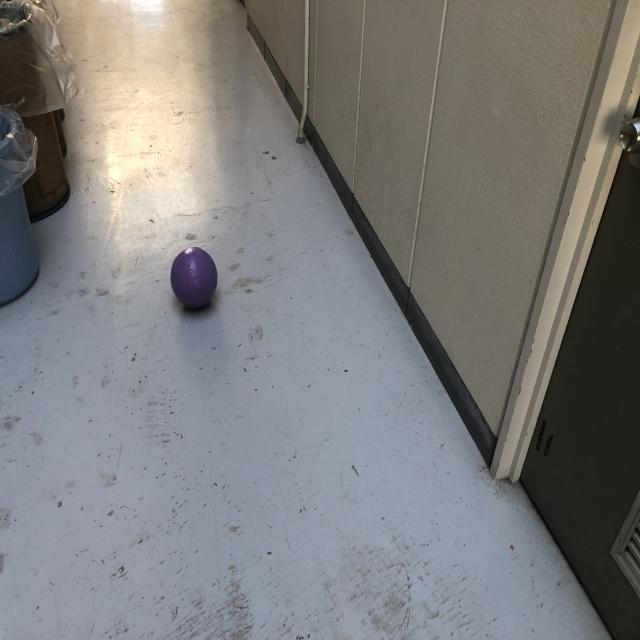purple_ball: (170, 250, 220, 309)
